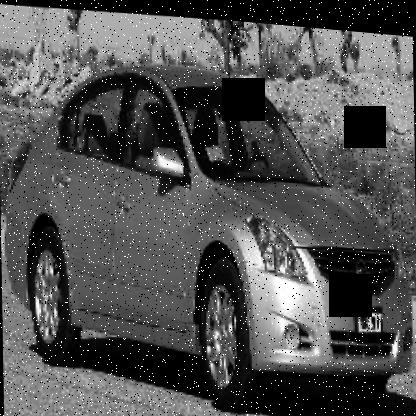not_emergency: (8, 48, 415, 416)
